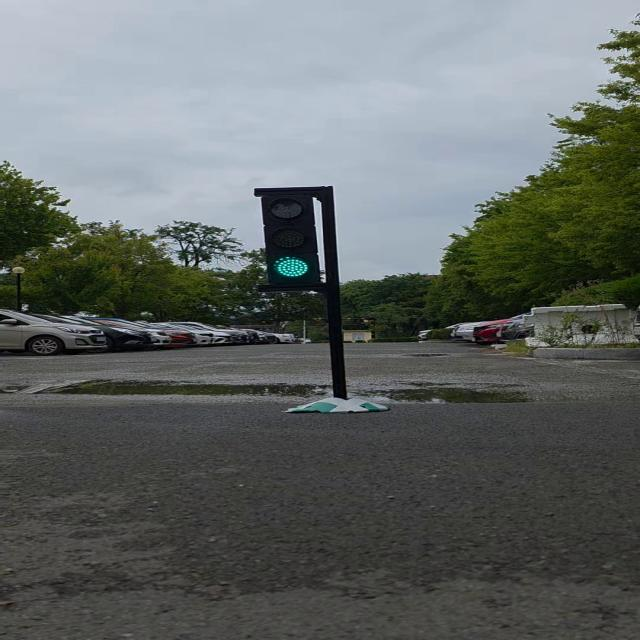green: (264, 188, 336, 288)
